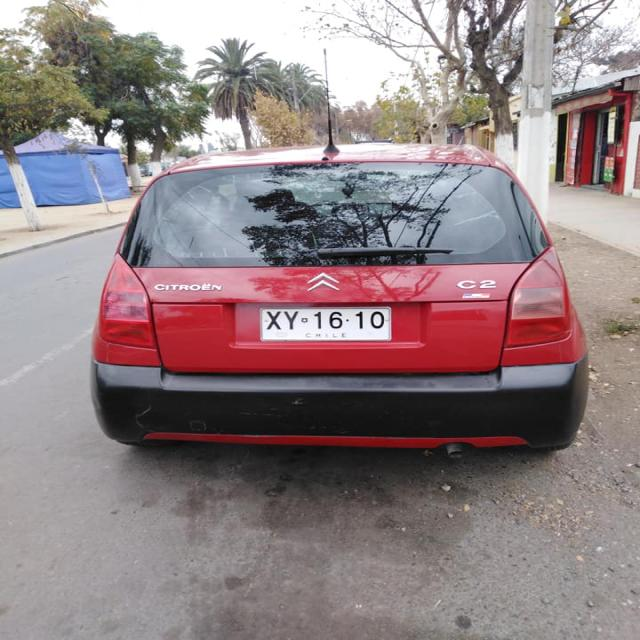patente: (258, 306, 392, 342)
